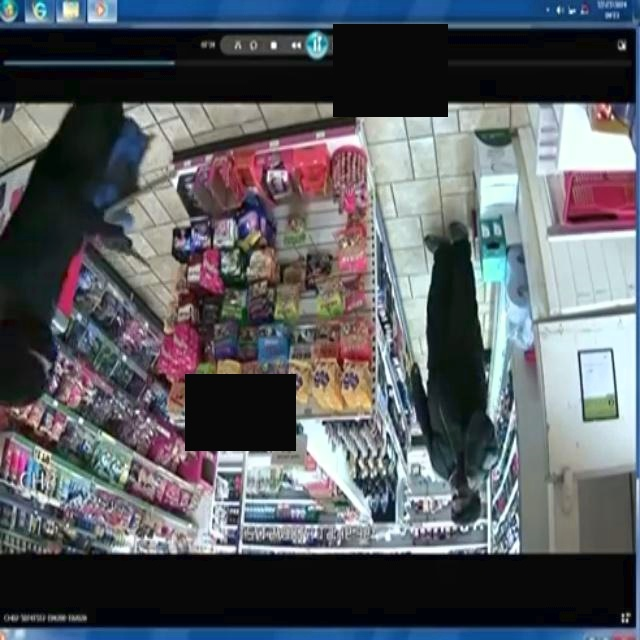gun: (105, 232, 156, 272)
